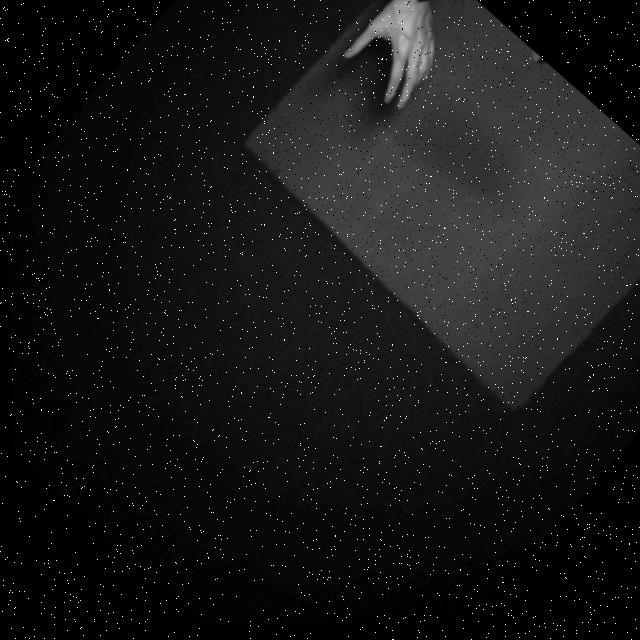no-gloves: (320, 0, 467, 133)
